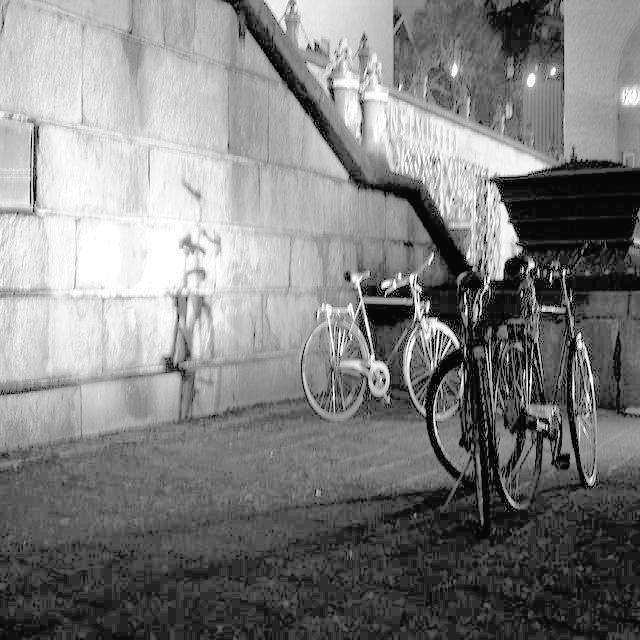Bicycle: (446, 221, 616, 509), (291, 247, 459, 459), (151, 184, 230, 434)
